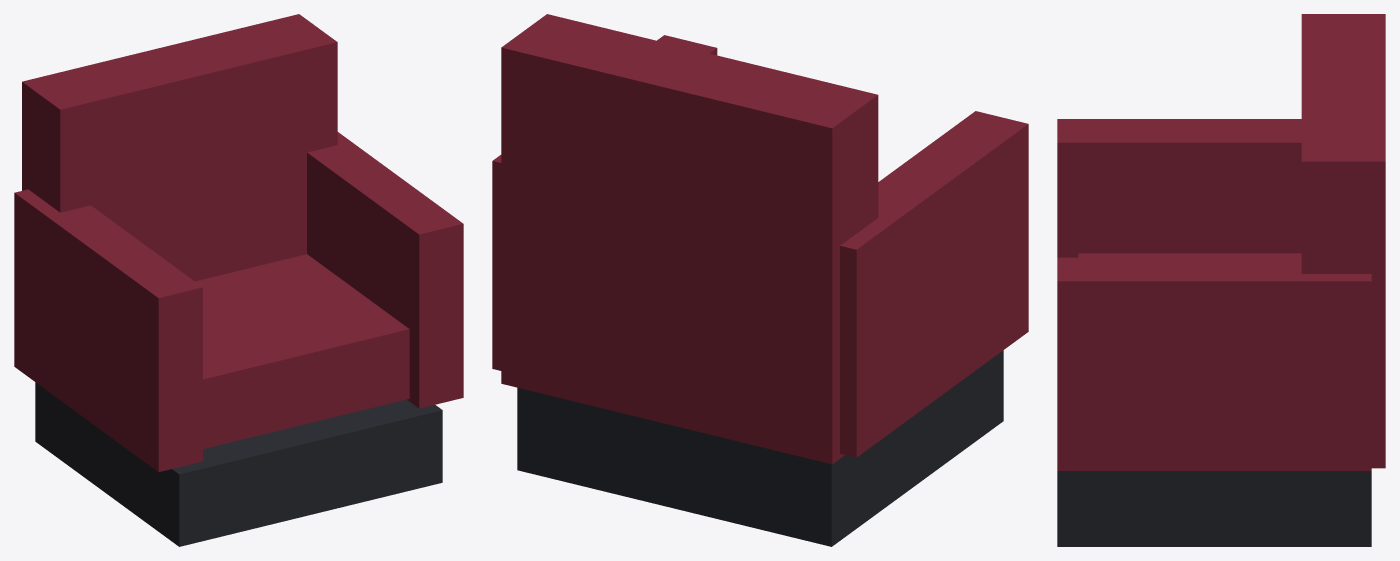
Rendered from armchair.glb.
3 renders of one model, left to right at view 1: azimuth 30°, elevation 25°; view 2: azimuth 150°, elevation 25°; view 3: azimuth 270°, elevation 25°, orthographic. The views are drawn at different scales.
Parts seen in each view (by area): view 1: armchair; view 2: armchair; view 3: armchair.
Boxes of the visible parts, left/top/right/bottom form: armchair: left=14, top=14, right=463, bottom=546; armchair: left=492, top=14, right=1028, bottom=546; armchair: left=1057, top=14, right=1385, bottom=546.
Size of the model in its own units: 1.1 by 1.23 by 0.94.
